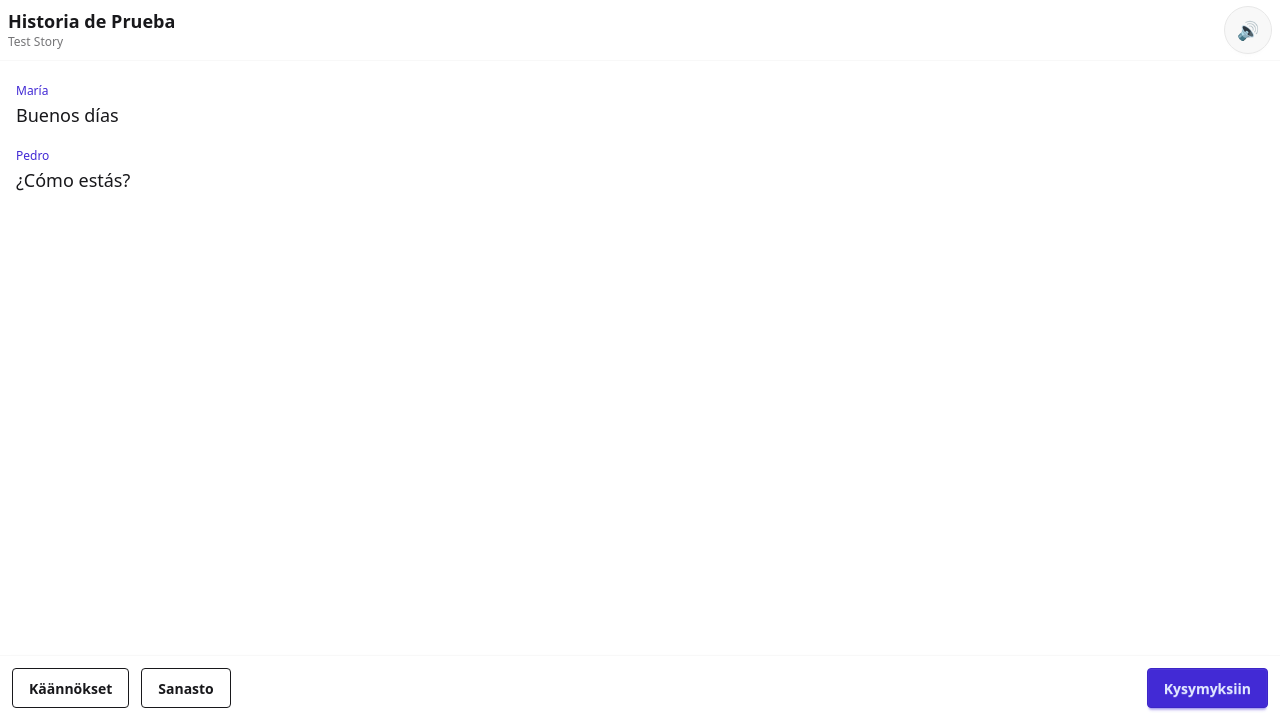
Test case: StoryReader › shows vocabulary when button is clicked
Note: Click "Sanasto" button
Click the button "Sanasto" at (186, 688), box [141,668,231,708]
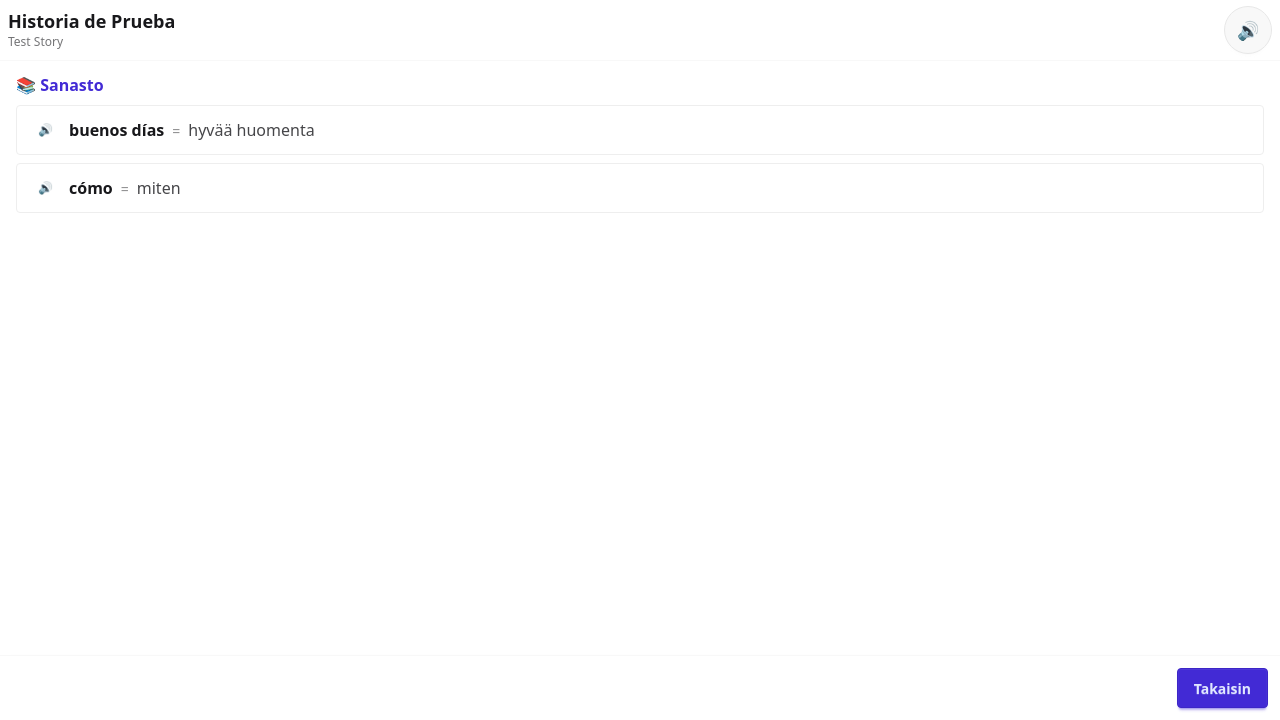
Expected: the text "buenos días" is shown, [69,118,164,142]
Now the heading "📚 Sanasto" is shown, box [16,74,104,96]
